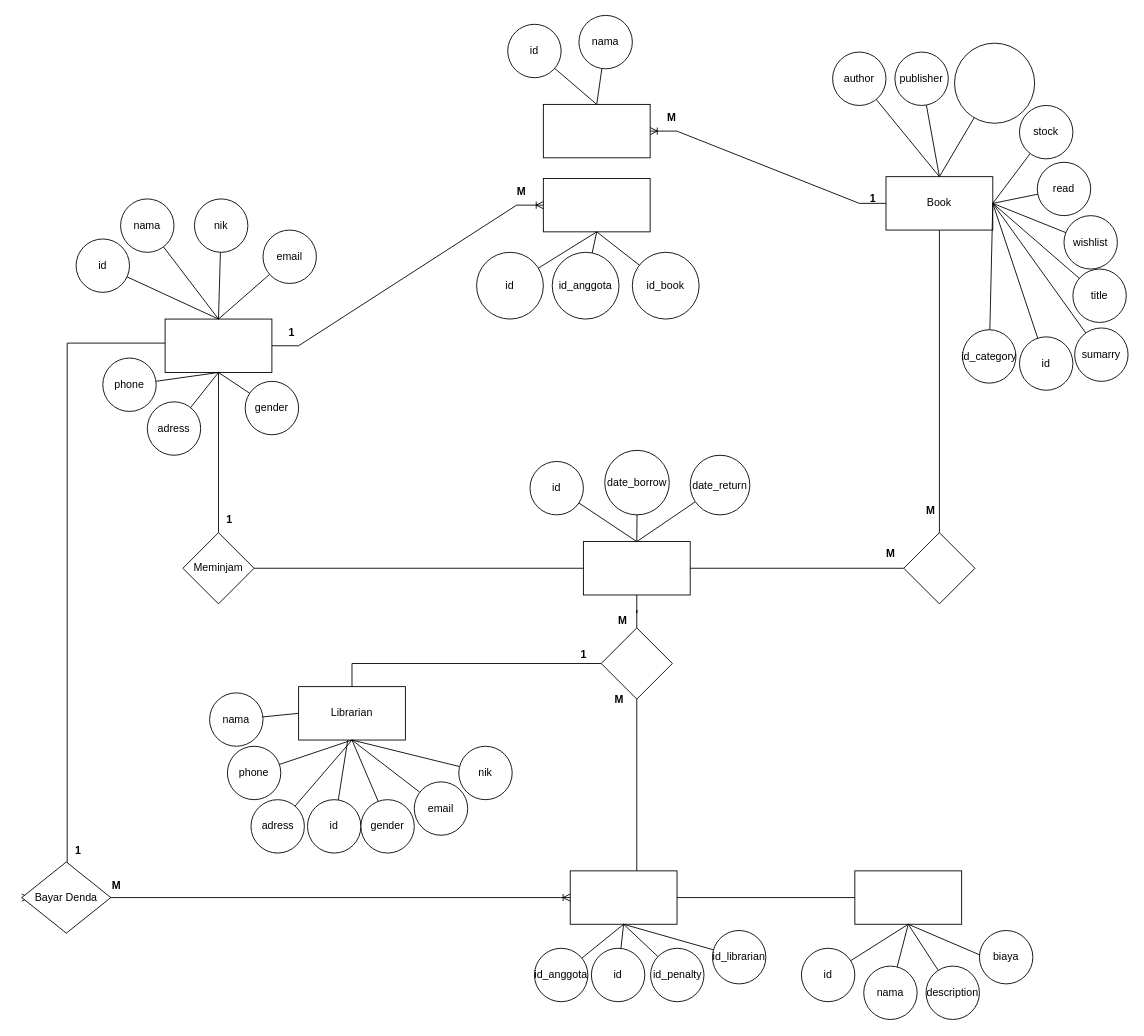
Image size: 1144x1036. Some labels were removed from this diagram. Each missing label, with the centre of its shape:
"Anggota" goes at (x=218, y=345).
"BookChart" goes at (x=596, y=205).
"Category" goes at (x=596, y=131).
"Dilayani" goes at (x=636, y=663).
"Dipinjam" goes at (x=939, y=568).
"LibraryService" goes at (x=636, y=568).
"Penalty" goes at (x=908, y=897).
"publication_data" goes at (x=994, y=82).
"Transaksi" goes at (x=623, y=897).
